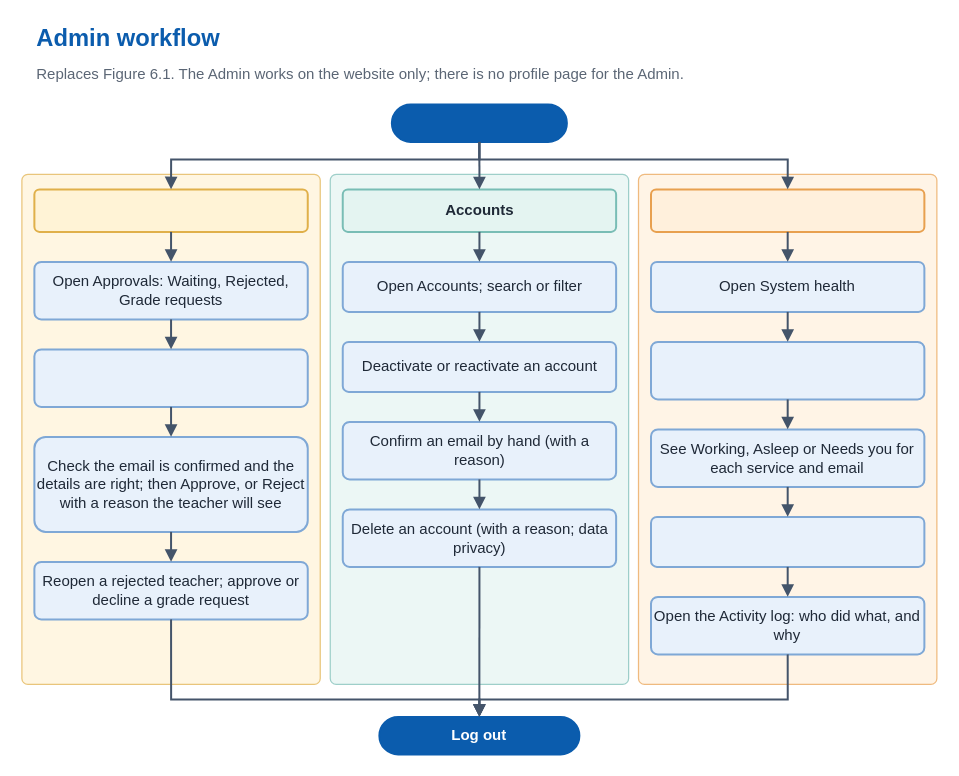
Some shapes in this 959 by 776 pixel diagram are drawn without their labels. Each missing label, with the centre of its shape:
"Admin sign in" belongs at pixel 478 122.
"Approvals" belongs at pixel 170 210.
"Check now: wake the three services, then test them" belongs at pixel 787 370.
"Reconnect email sending if needed" belongs at pixel 787 541.
"See school, employee ID, grades and whether the email is confirmed" belongs at pixel 170 377.
"System health and log" belongs at pixel 787 210.
